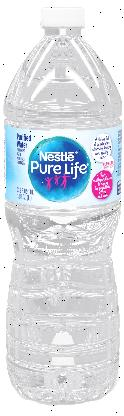Plastic Bottle: (3, 7, 123, 404)
